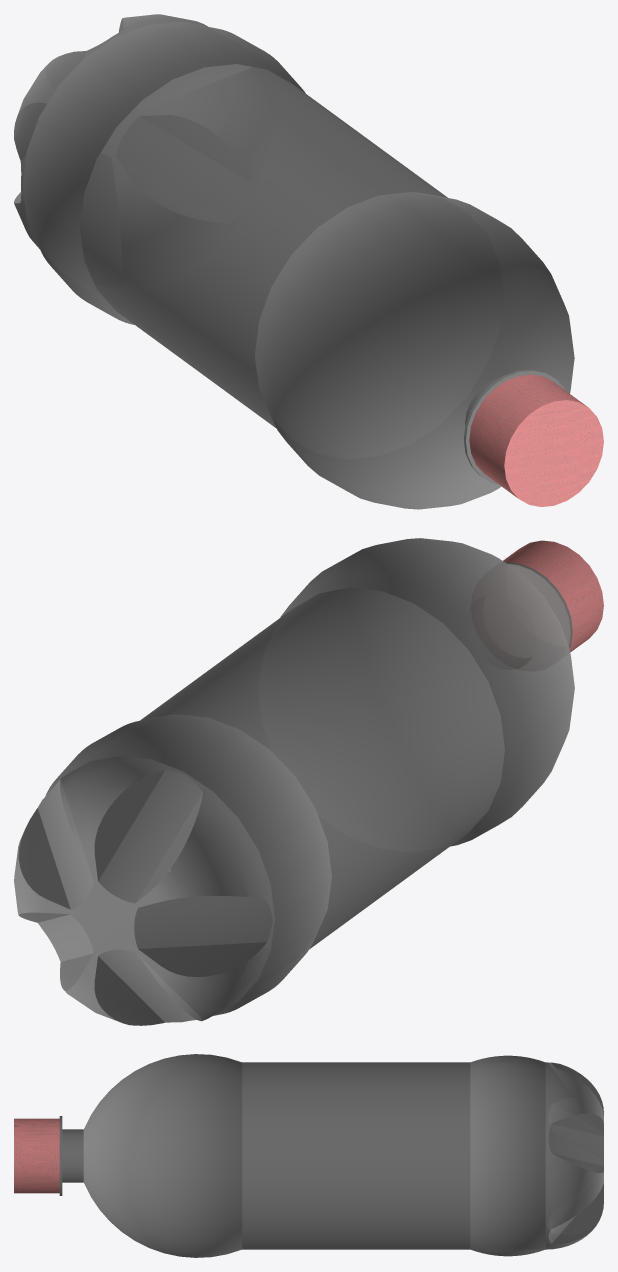
The model's file is model_align.obj.
The picture shows the model from 3 angles, top to bottom: view 1: azimuth 30°, elevation 25°; view 2: azimuth 150°, elevation 25°; view 3: azimuth 270°, elevation 25°; orthographic projection. The views are drawn at different scales.
Visible parts, largest first — view 1: mesh1_mesh1-geometry, mesh2_mesh2-geometry; view 2: mesh1_mesh1-geometry, mesh2_mesh2-geometry; view 3: mesh1_mesh1-geometry, mesh2_mesh2-geometry.
Part boxes in pixels (x1=…): mesh1_mesh1-geometry: x1=14, y1=14, x2=574, y2=509; mesh2_mesh2-geometry: x1=469, y1=374, x2=603, y2=506; mesh1_mesh1-geometry: x1=14, y1=538, x2=574, y2=1025; mesh2_mesh2-geometry: x1=503, y1=540, x2=603, y2=652; mesh1_mesh1-geometry: x1=59, y1=1054, x2=603, y2=1257; mesh2_mesh2-geometry: x1=14, y1=1118, x2=59, y2=1193.
Size of the model in its own units: 0.0927 by 0.0927 by 0.2671.
